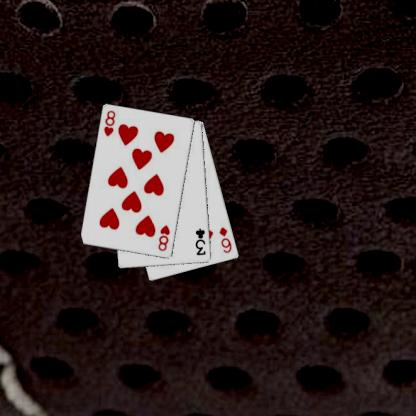3C: (193, 226, 207, 256)
6D: (217, 224, 233, 254)
8H: (155, 223, 172, 252), (101, 108, 117, 138)
